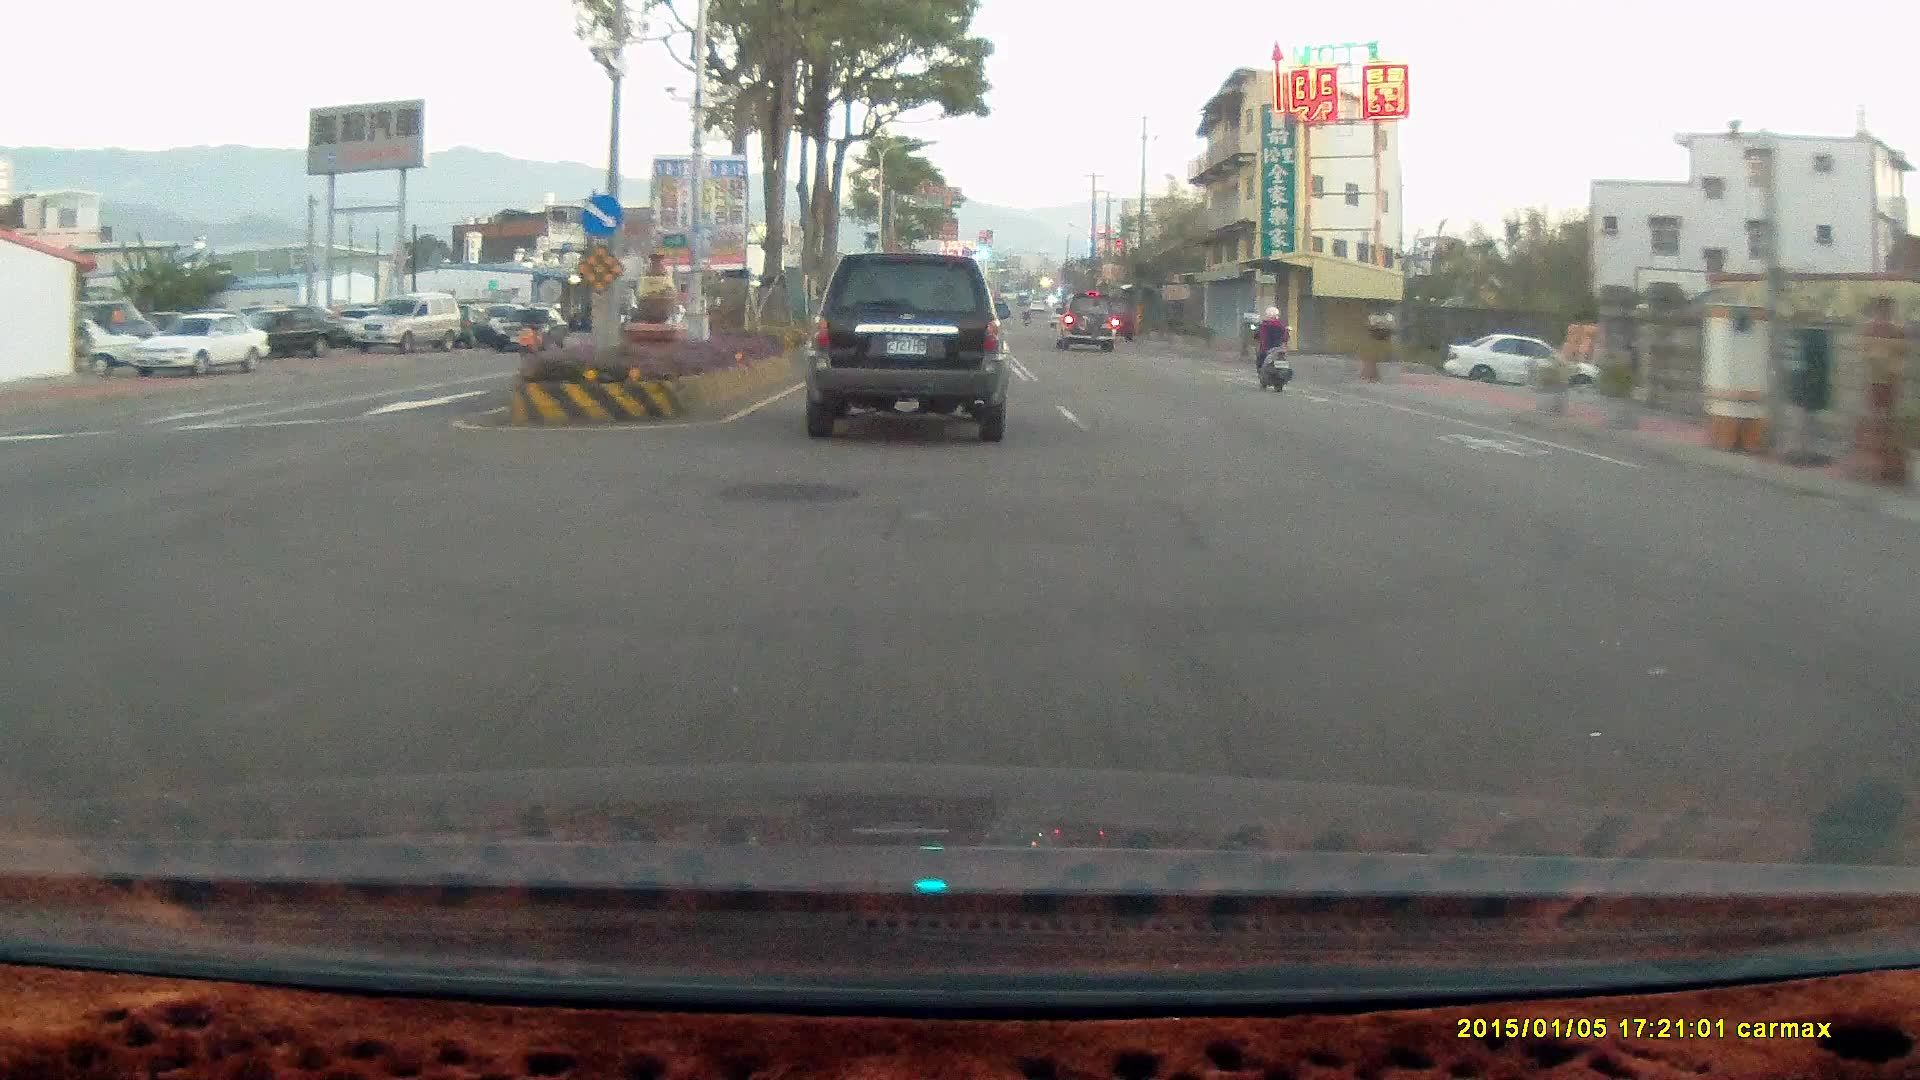rider: (1241, 299, 1304, 400), (1247, 301, 1292, 391), (512, 301, 545, 359)
vehicle: (801, 245, 1011, 445), (801, 248, 1010, 443), (1441, 331, 1604, 393), (123, 313, 269, 378), (1446, 340, 1609, 400), (129, 309, 270, 374), (236, 303, 356, 360), (355, 291, 465, 351), (355, 290, 464, 350), (229, 306, 351, 358), (1054, 291, 1118, 351), (499, 306, 572, 356), (1059, 295, 1118, 358), (498, 306, 571, 353)
